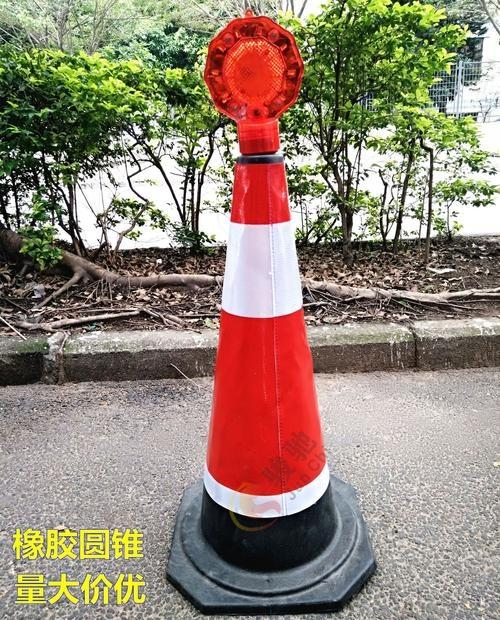cone_barrel: (189, 153, 342, 590)
